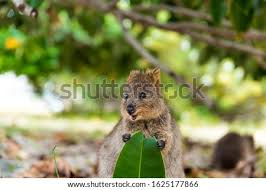quokka: (89, 54, 195, 177)
